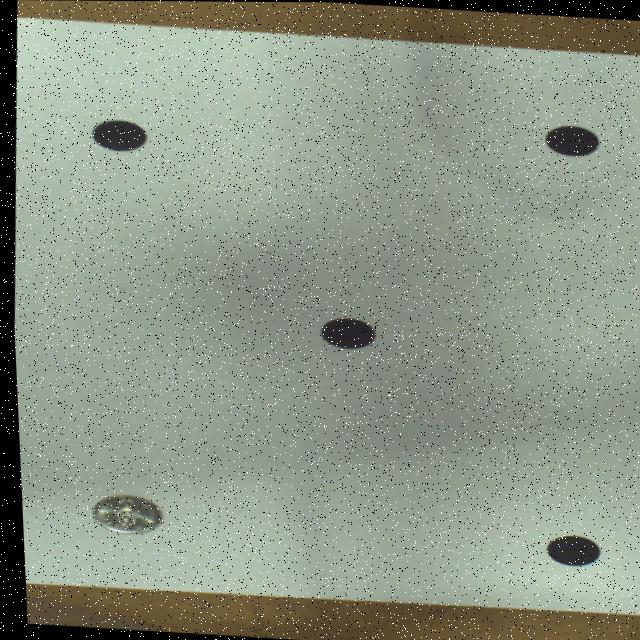space: (316, 317, 372, 349), (541, 535, 595, 566), (543, 125, 597, 156), (91, 120, 143, 151)
tail1bath: (87, 495, 157, 533)
